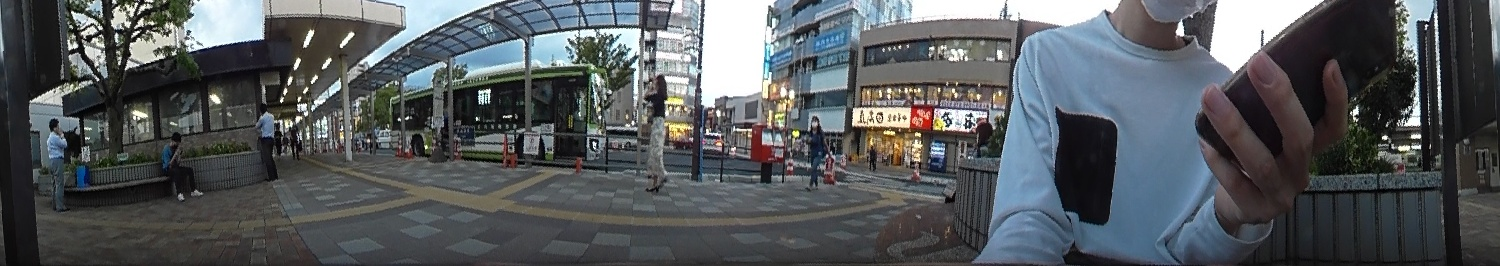difficult_person: (287, 112, 303, 160), (273, 117, 281, 159), (867, 142, 878, 167)
person: (638, 72, 671, 200), (157, 129, 207, 201), (43, 117, 73, 211), (251, 102, 283, 187), (804, 112, 831, 191)
